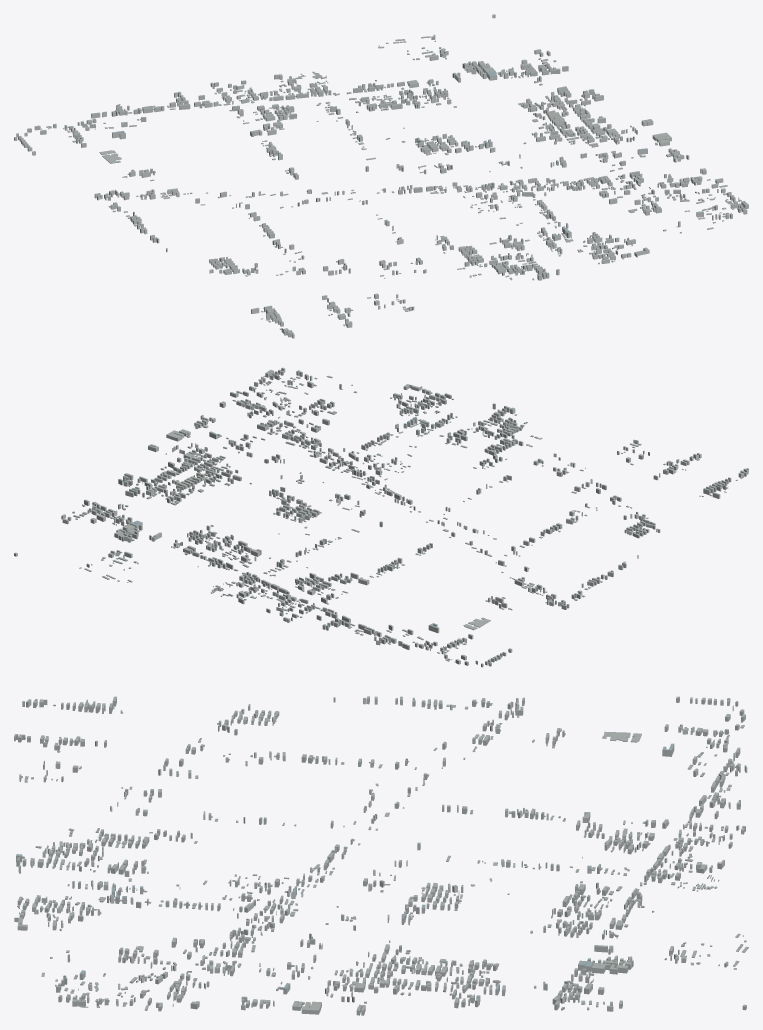
File: far.glb
3 renders of one model, top to bottom at view 1: azimuth 30°, elevation 25°; view 2: azimuth 150°, elevation 25°; view 3: azimuth 270°, elevation 25°, orthographic. The views are drawn at different scales.
Size of the model in its own units: 2121 by 21.8 by 2093.
